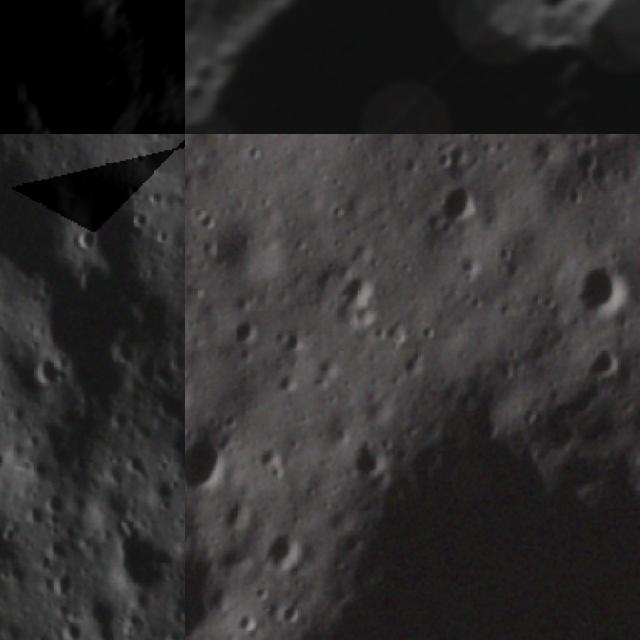crater: (303, 401, 640, 640), (185, 0, 586, 134), (433, 0, 640, 134), (207, 212, 286, 294), (568, 255, 638, 324), (185, 424, 239, 505), (328, 266, 385, 326), (210, 487, 264, 543), (433, 174, 488, 228), (266, 520, 314, 576), (349, 436, 391, 486), (435, 134, 476, 179), (583, 342, 623, 385), (271, 320, 310, 362), (520, 0, 580, 27), (226, 310, 264, 352), (309, 347, 347, 388), (255, 439, 294, 477), (451, 248, 485, 290), (29, 354, 66, 392), (278, 594, 314, 633), (586, 152, 615, 194), (227, 608, 258, 640), (40, 489, 73, 516), (49, 570, 80, 598), (185, 373, 203, 421), (20, 502, 53, 528), (45, 536, 71, 564), (580, 134, 635, 146), (73, 225, 97, 252), (59, 618, 88, 640), (420, 322, 440, 347)
